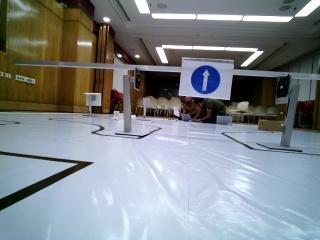straight: (178, 57, 231, 100)
